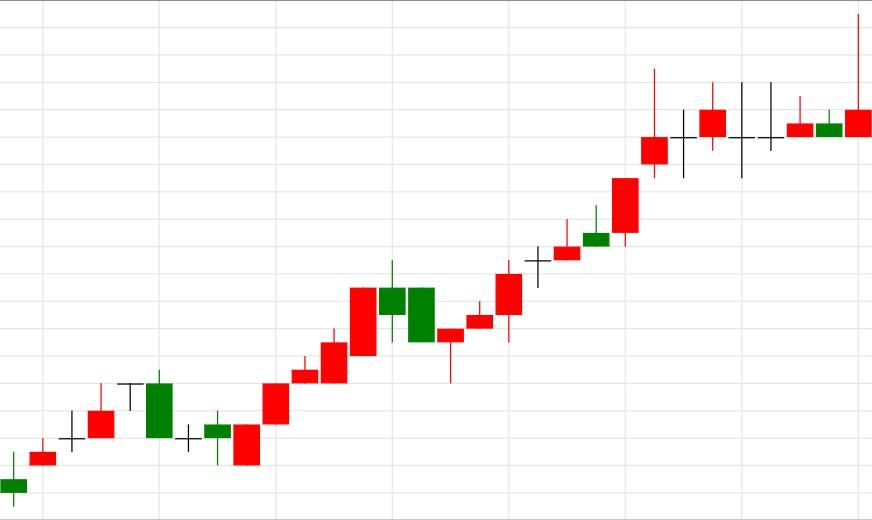three_white_soldiers_rise: (116, 355, 319, 466), (349, 260, 523, 385)
